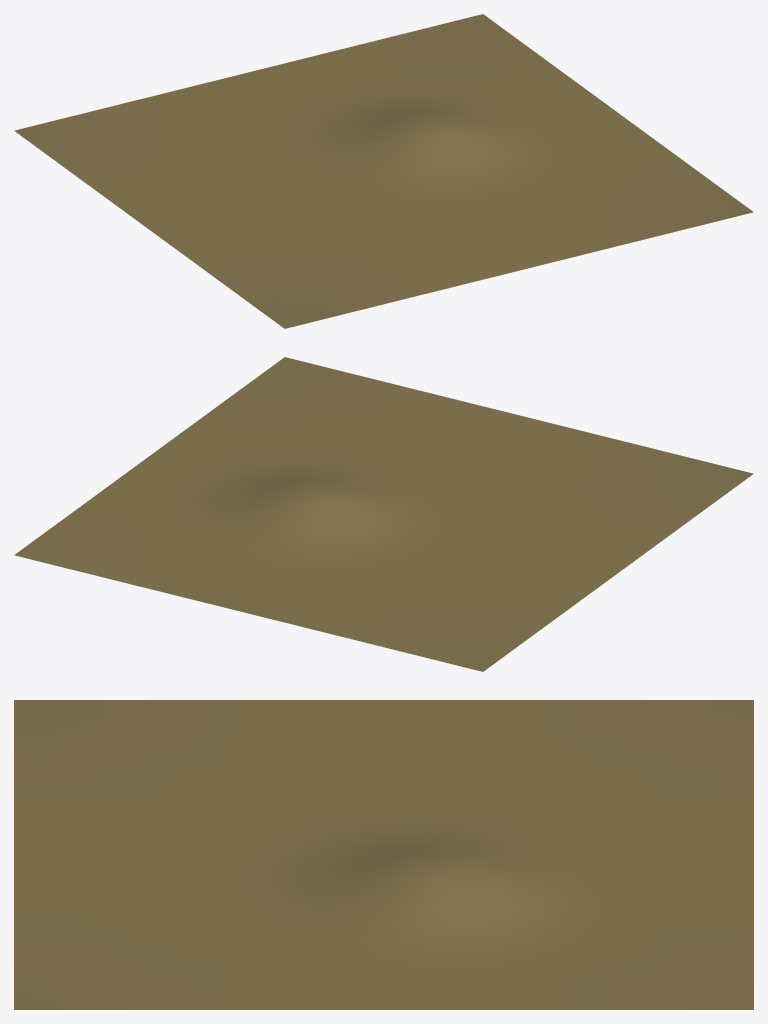
3 renders of one model, top to bottom at view 1: azimuth 30°, elevation 25°; view 2: azimuth 150°, elevation 25°; view 3: azimuth 270°, elevation 25°, orthographic. The views are drawn at different scales.
Bounding box in the file's own units: 32 × 1.29 × 32.
Materials: 1 (1 with a texture image).
